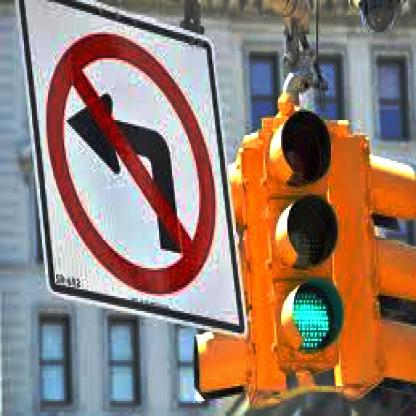No left turn: (47, 20, 229, 296)
